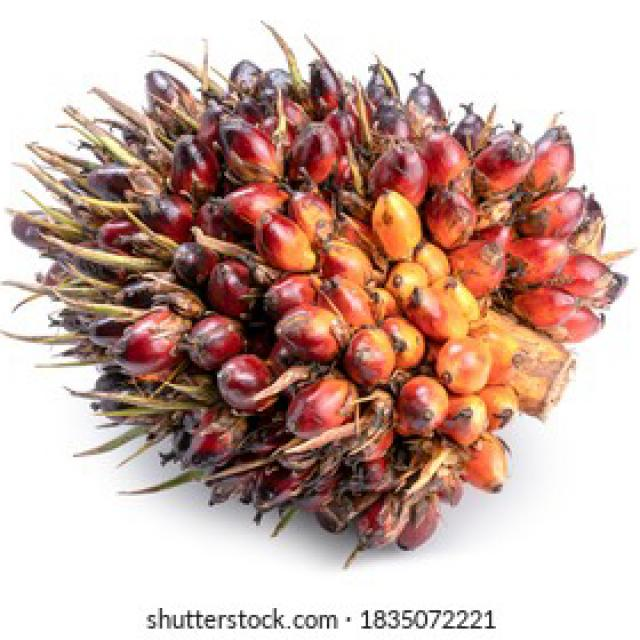FFB: (41, 61, 635, 558)
